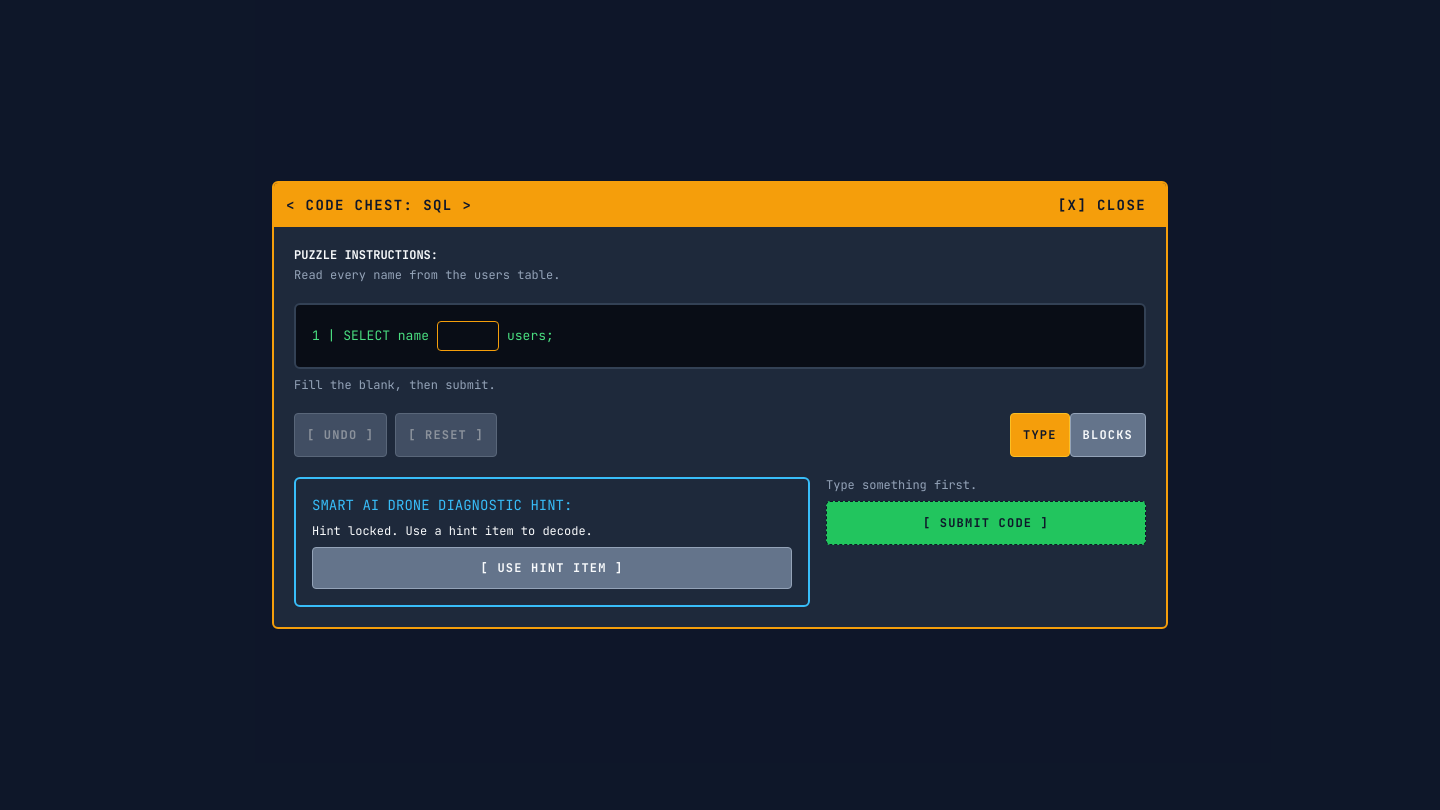
Test: ChallengeTerminal: the live check › a valid entry reads `Syntax OK. Submit to check your answer.` (no ✓)
In the field named "answer": (468, 336) [437, 321, 499, 351], type "WHERE"
Wait 500 ms
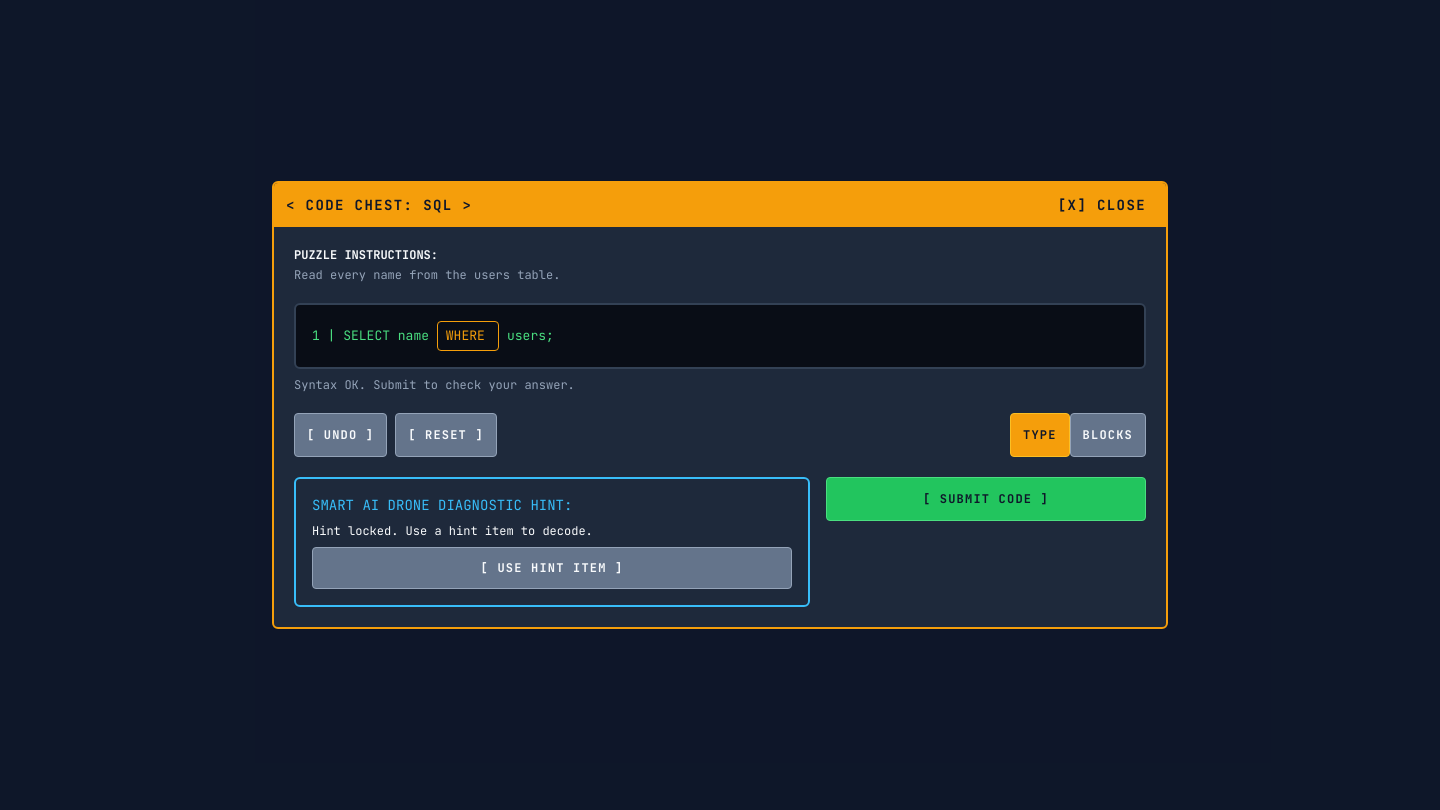
Result: the text with test id "live-check" reads "Syntax OK. Submit to check your answer." at [294, 377, 575, 393]
